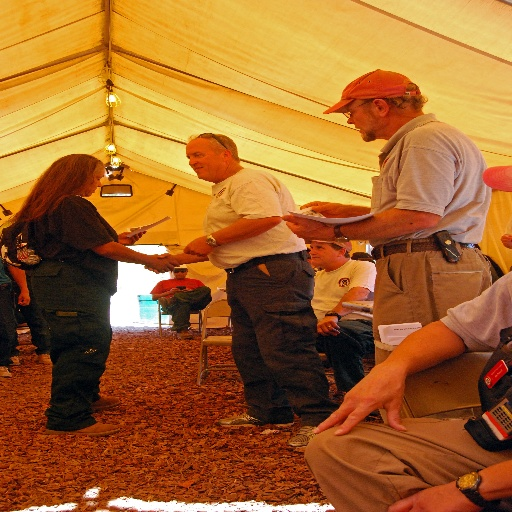hand: (308, 361, 410, 436), (387, 485, 478, 511), (274, 213, 332, 242), (299, 197, 349, 219), (146, 250, 180, 272), (182, 236, 214, 259), (314, 316, 344, 338), (145, 256, 180, 273), (115, 229, 148, 246), (17, 291, 32, 309), (169, 287, 182, 294), (179, 287, 192, 292)
